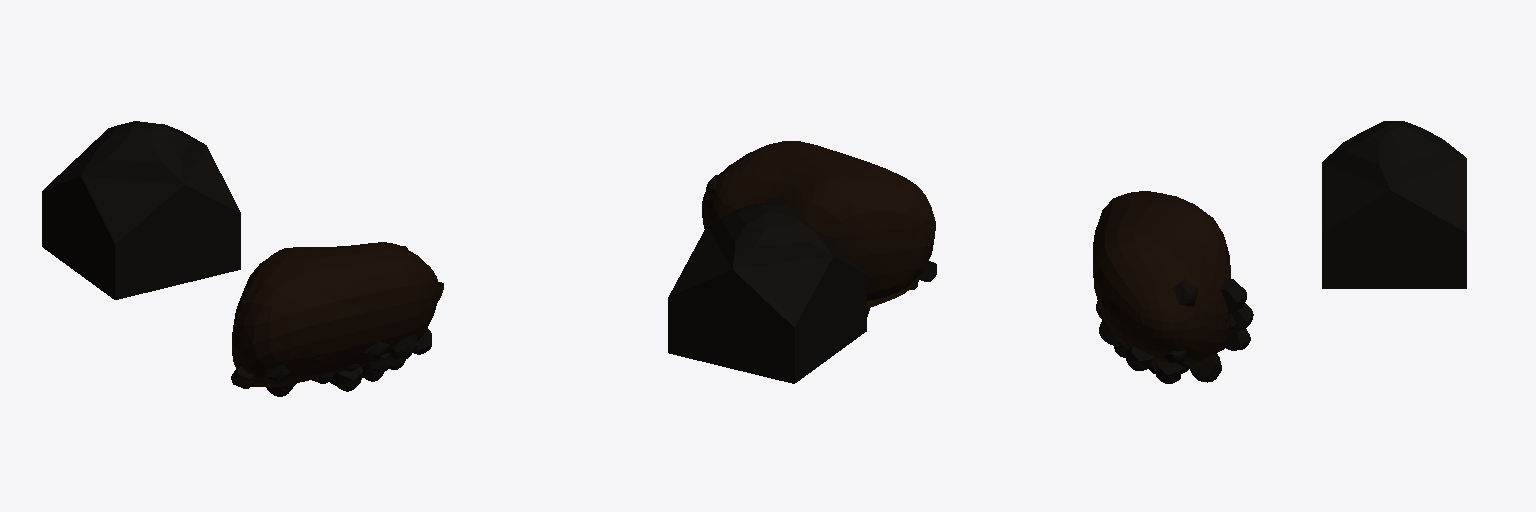
The model's file is iron2.obj.
3 views of the same model, side by side, from view 1: azimuth 30°, elevation 25°; view 2: azimuth 150°, elevation 25°; view 3: azimuth 270°, elevation 25° (orthographic).
Parts seen in each view (by area): view 1: Cube.001_Cube.002, Cube; view 2: Cube.001_Cube.002, Cube; view 3: Cube.001_Cube.002, Cube.
Boxes of the visible parts, <box> form: Cube.001_Cube.002: <box>42,121,431,396</box>; Cube: <box>232,242,438,387</box>; Cube.001_Cube.002: <box>668,175,936,383</box>; Cube: <box>702,141,935,300</box>; Cube.001_Cube.002: <box>1096,121,1466,383</box>; Cube: <box>1093,191,1231,362</box>.
Size of the model in its own units: 3.81 by 3.08 by 5.14.